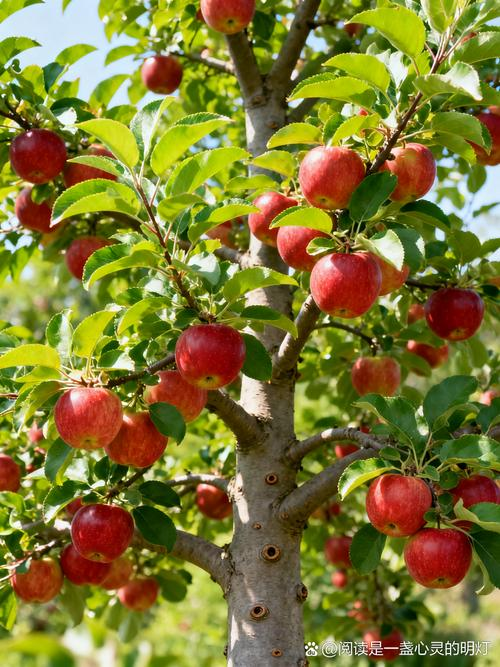ripe: (288, 131, 374, 219), (162, 322, 252, 395), (306, 243, 386, 320), (361, 465, 434, 544), (133, 362, 216, 430), (65, 499, 145, 567), (46, 379, 119, 451), (422, 276, 493, 347), (97, 403, 168, 471), (272, 206, 345, 271), (400, 526, 470, 592), (378, 134, 441, 204), (345, 342, 405, 408), (3, 550, 66, 611), (5, 126, 65, 187), (63, 231, 128, 279)
